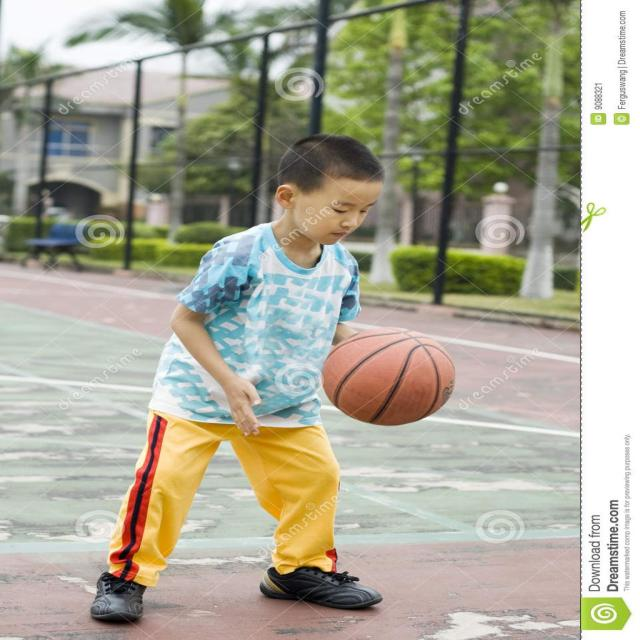Face: (264, 155, 387, 250)
